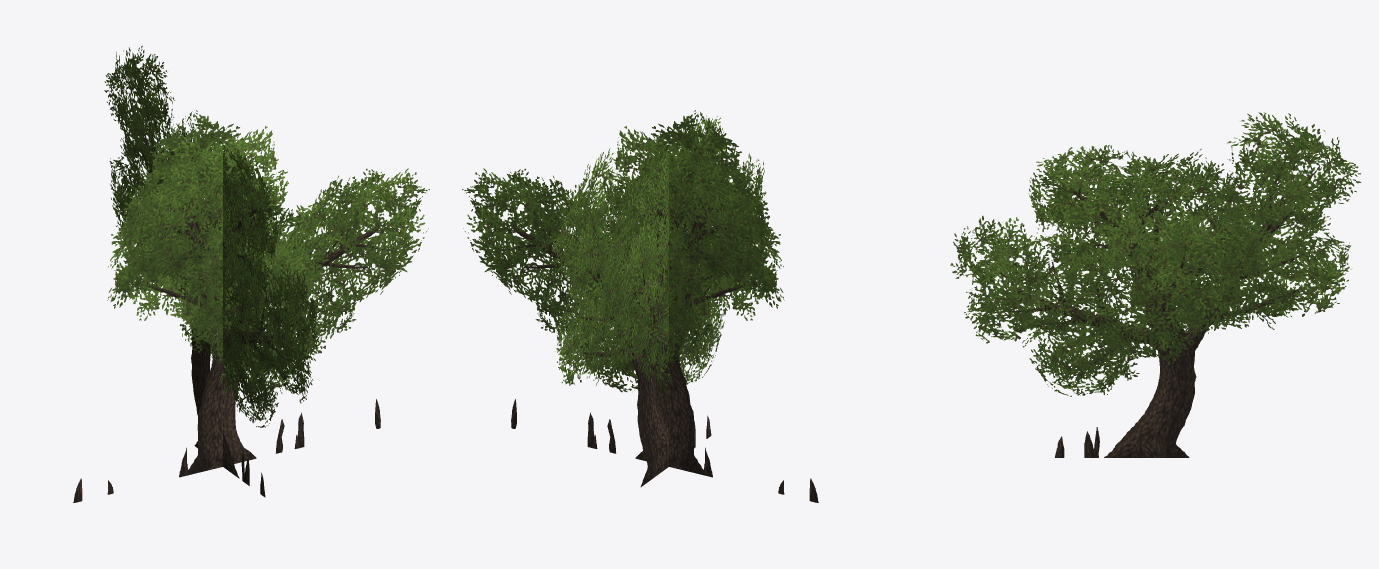
Rendered from Oak_01.lod3.glb.
The picture shows the model from 3 angles, left to right: view 1: azimuth 30°, elevation 25°; view 2: azimuth 150°, elevation 25°; view 3: azimuth 270°, elevation 25°; orthographic projection. The views are drawn at different scales.
Parts seen in each view (by area): view 1: Billboard; view 2: Billboard; view 3: Billboard.
Part boxes in pixels (bbox=[...]): Billboard: bbox=[73, 45, 429, 502]; Billboard: bbox=[462, 110, 818, 502]; Billboard: bbox=[950, 112, 1361, 457].
Size of the model in its own units: 13.89 by 11.6 by 13.89.
Materials: 1 (1 with a texture image).
